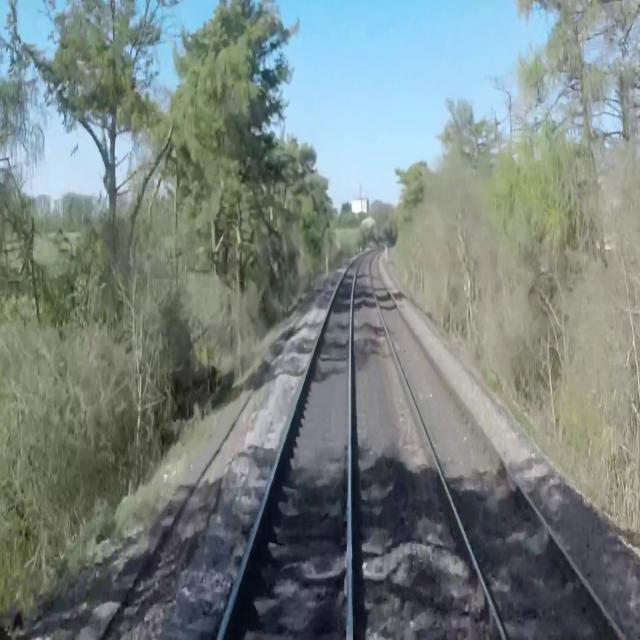rail-track: (370, 249, 618, 639), (222, 254, 364, 639)
